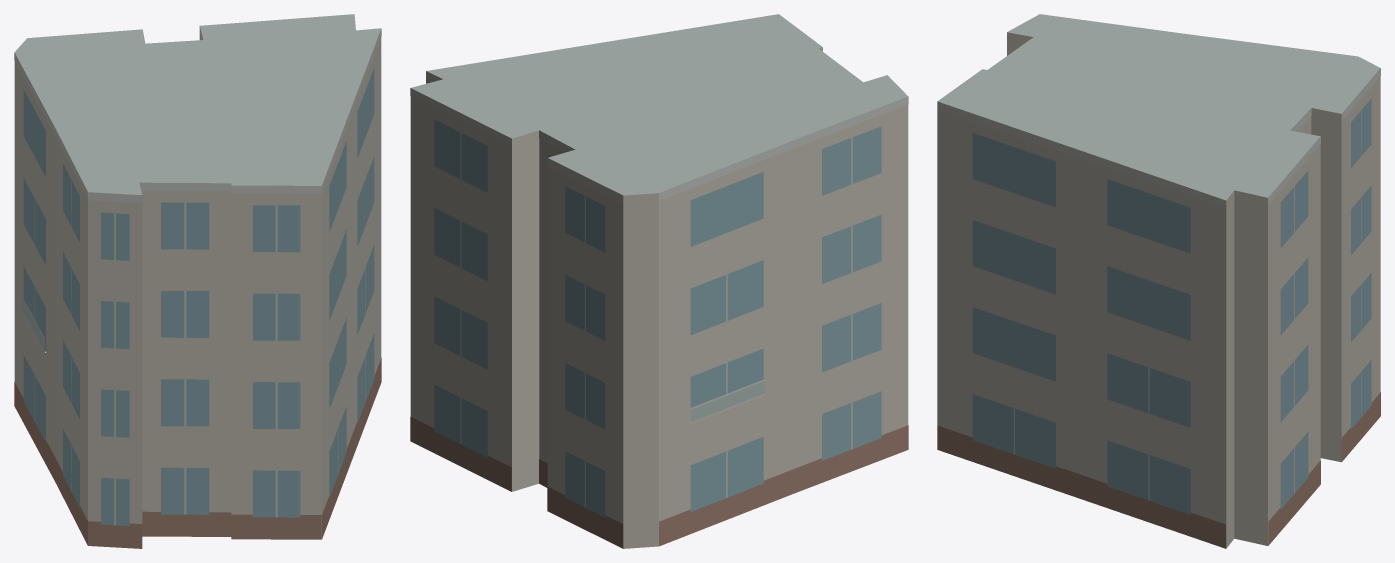
Rendered from survey-upis-32765733.glb.
3 renders of one model, left to right at view 1: azimuth 30°, elevation 25°; view 2: azimuth 150°, elevation 25°; view 3: azimuth 270°, elevation 25°, orthographic.
Visible parts, largest first — view 1: survey-upis-32765733.tmp; view 2: survey-upis-32765733.tmp; view 3: survey-upis-32765733.tmp.
Boxes of the visible parts, x1,y1,x2,y2 form: survey-upis-32765733.tmp: [14, 14, 381, 548]; survey-upis-32765733.tmp: [410, 14, 908, 548]; survey-upis-32765733.tmp: [937, 14, 1380, 548].
Bounding box in the file's own units: 12.3 × 10.7 × 12.35.
